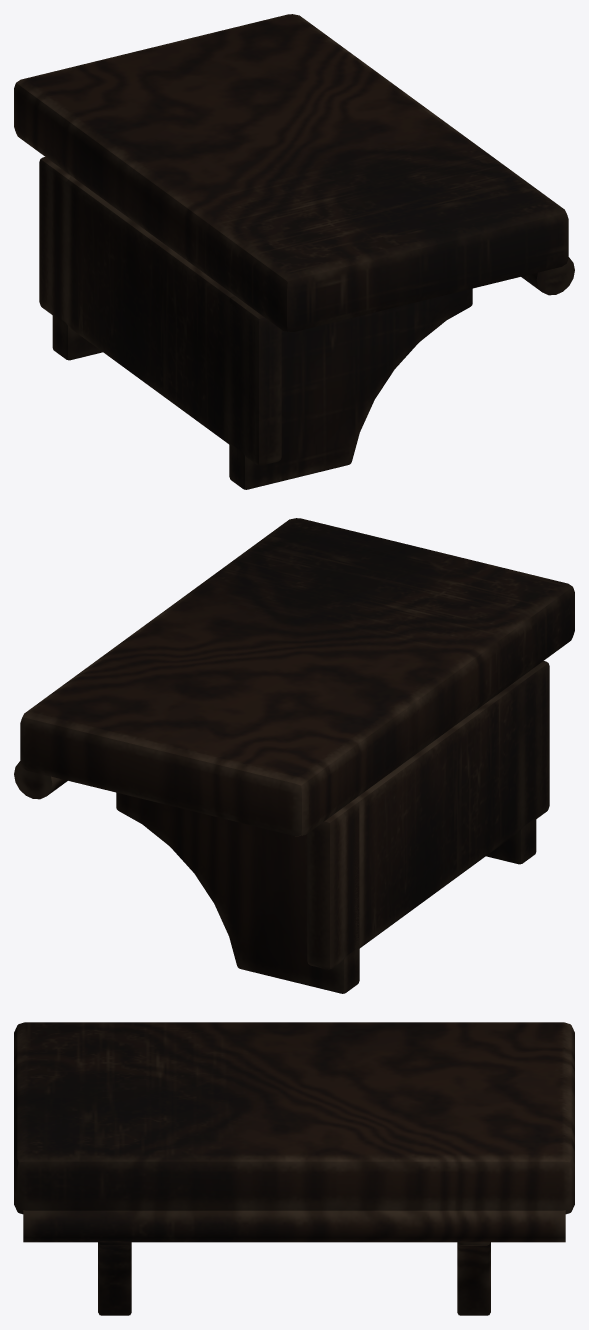
File: hall_shelf.glb
3 views of the same model, one above another, from view 1: azimuth 30°, elevation 25°; view 2: azimuth 150°, elevation 25°; view 3: azimuth 270°, elevation 25° (orthographic).
Visible parts, largest first — view 1: Shelf; view 2: Shelf; view 3: Shelf.
Part boxes in pixels (box(x1,y1,x2,y2)): Shelf: box(14, 14, 574, 489); Shelf: box(14, 518, 574, 993); Shelf: box(14, 1022, 574, 1315).
Size of the model in its own units: 0.184 by 0.145 by 0.3.
Materials: 1 (1 with a texture image).
